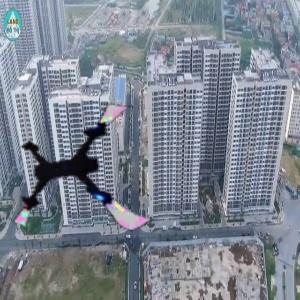drone: (12, 94, 158, 240)
